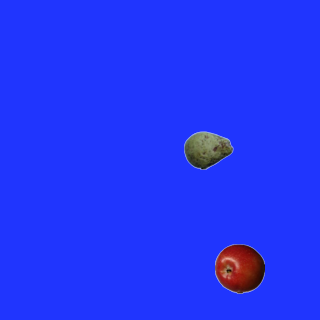Apple Braeburn: (214, 243, 264, 293)
Pear Stone: (183, 125, 233, 175)
